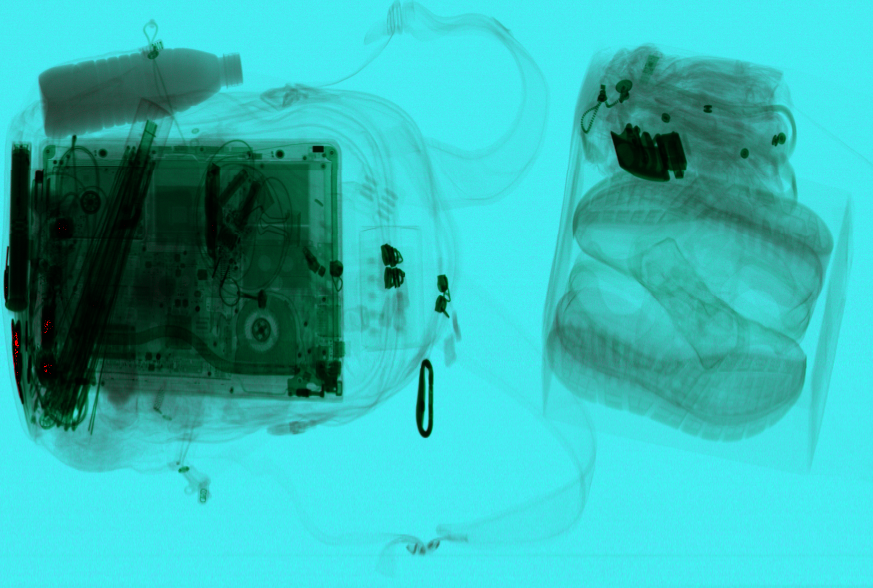Plastic Bottle: (39, 47, 244, 139)
